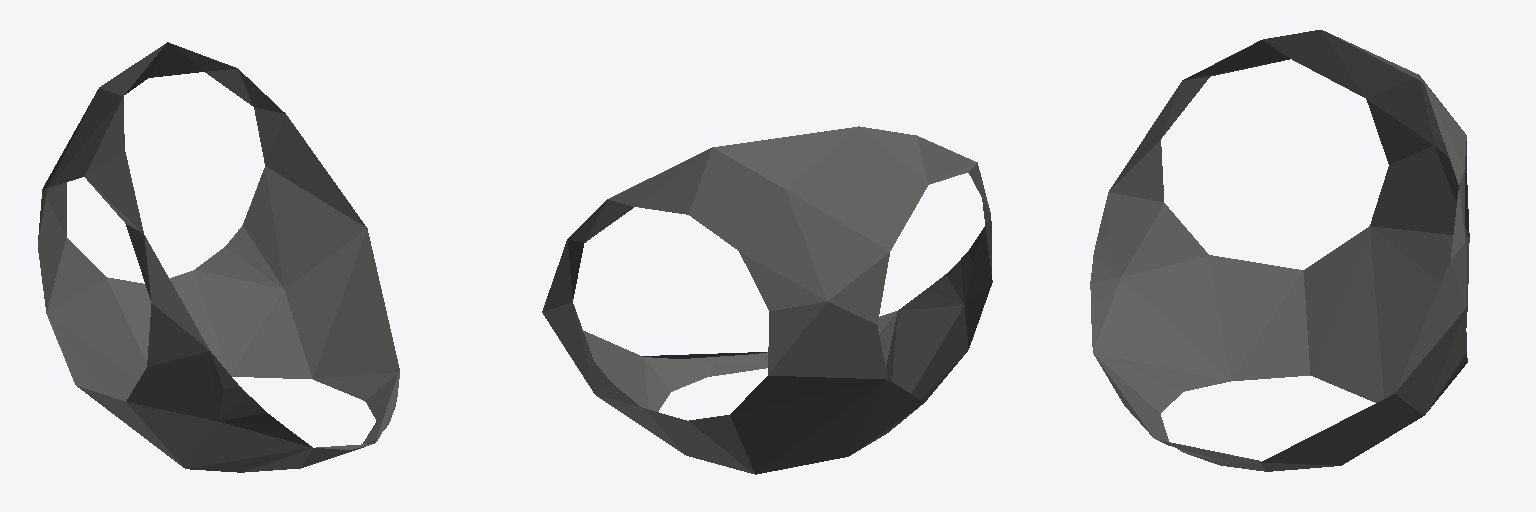
Rendered from hemisphere_05.obj.
3 renders of one model, left to right at view 1: azimuth 30°, elevation 25°; view 2: azimuth 150°, elevation 25°; view 3: azimuth 270°, elevation 25°, orthographic.
Parts seen in each view (by area): view 1: <STL_BINARY>; view 2: <STL_BINARY>; view 3: <STL_BINARY>.
Part boxes in pixels (bbox=[...]): <STL_BINARY>: bbox=[38, 42, 399, 472]; <STL_BINARY>: bbox=[542, 126, 992, 474]; <STL_BINARY>: bbox=[1090, 30, 1469, 471].
Size of the model in its own units: 1.03 by 1 by 1.